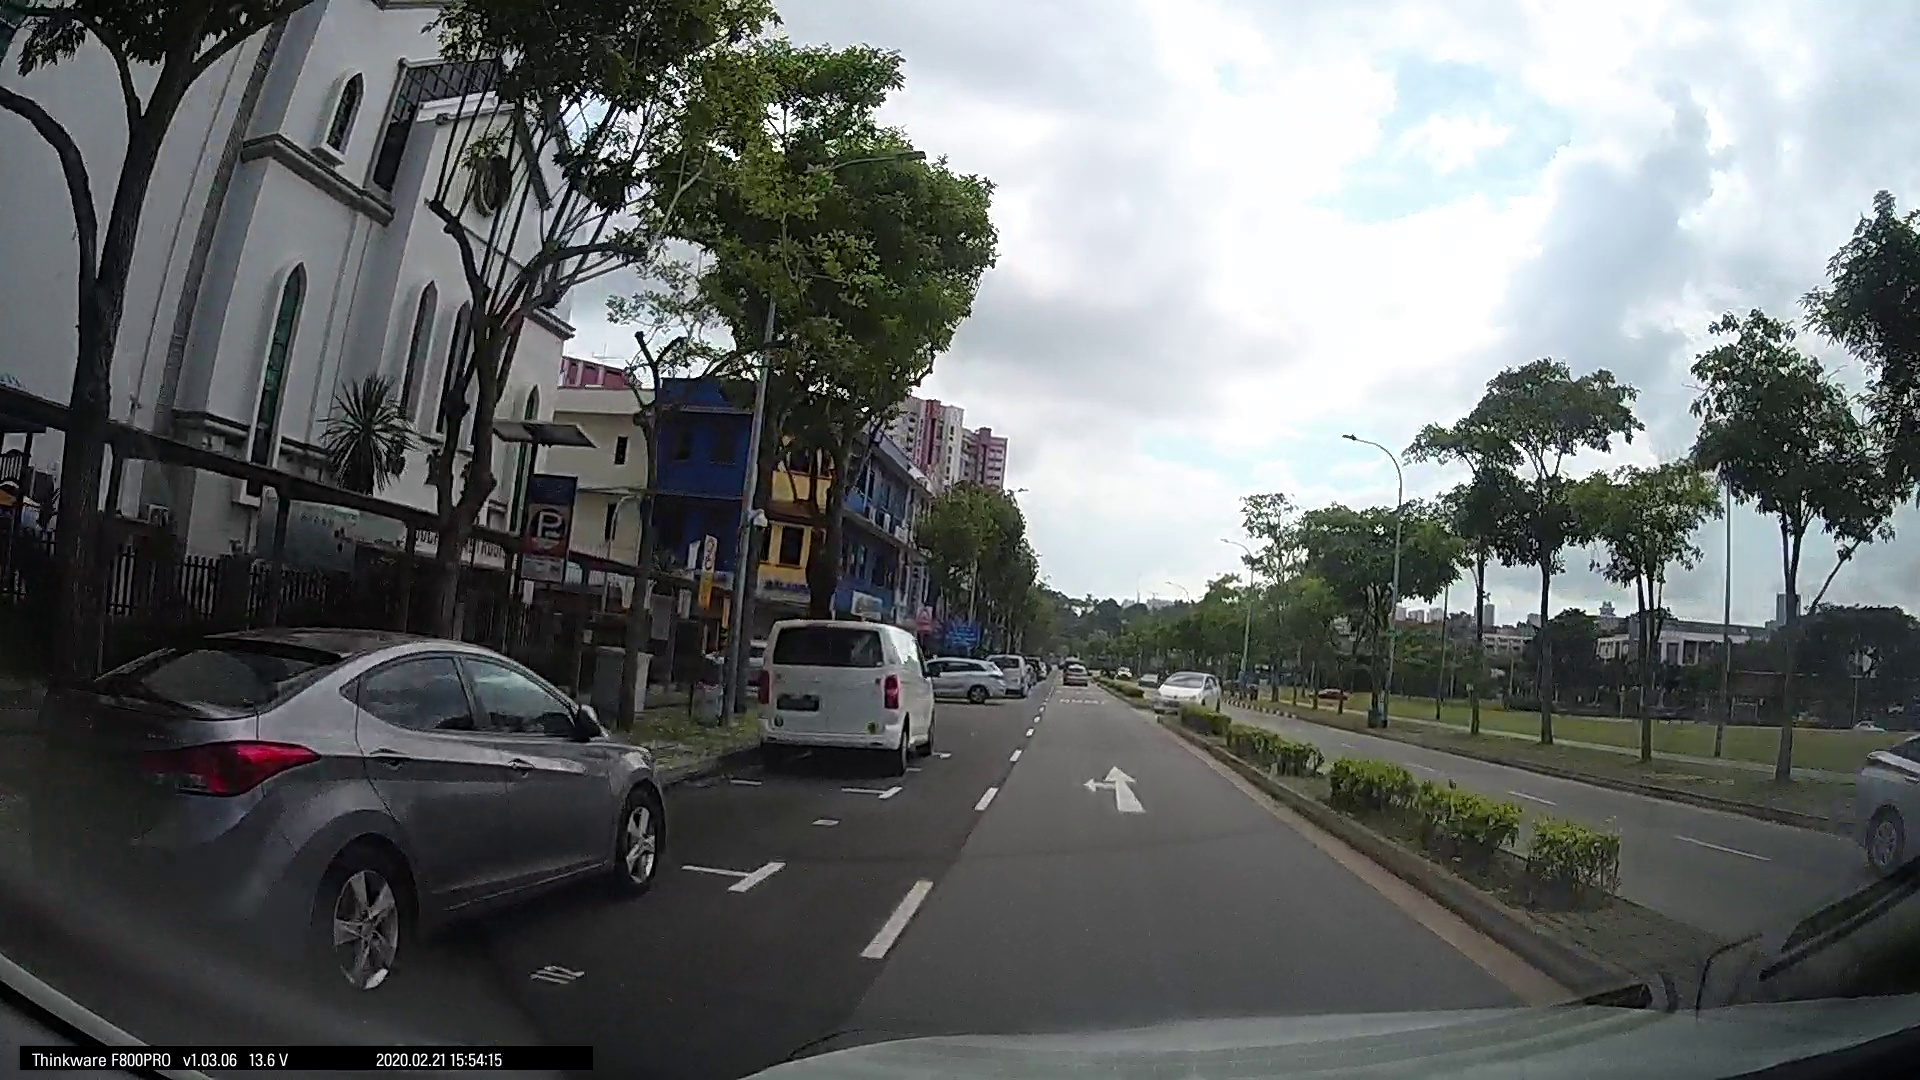Heavy Vehicle: (820, 611, 959, 729)
Light Vehicle: (3, 617, 415, 1000), (278, 618, 727, 901), (1557, 661, 1838, 835), (1439, 679, 1575, 785), (1373, 686, 1453, 765), (1167, 649, 1230, 707), (1031, 650, 1076, 688), (957, 645, 1000, 684)
